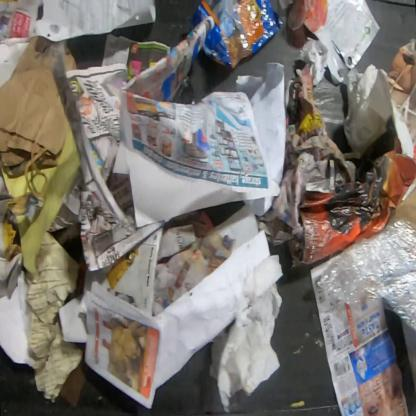rigid_plastic: (278, 0, 329, 31)
soft_plastic: (315, 218, 415, 335), (190, 0, 283, 70)
